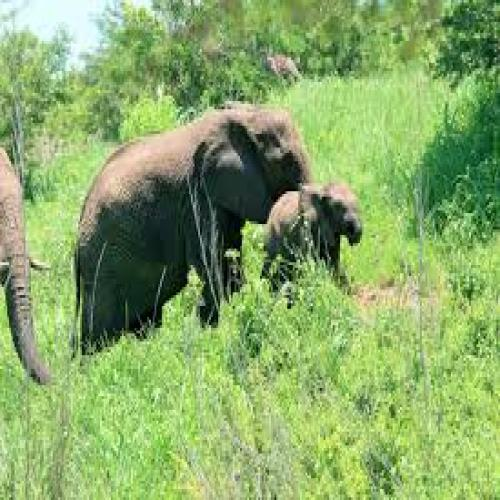asian_elephant-endangered: (73, 100, 311, 353), (0, 143, 64, 389), (265, 181, 367, 291)
